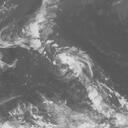cyclone: (50, 45, 95, 84)
